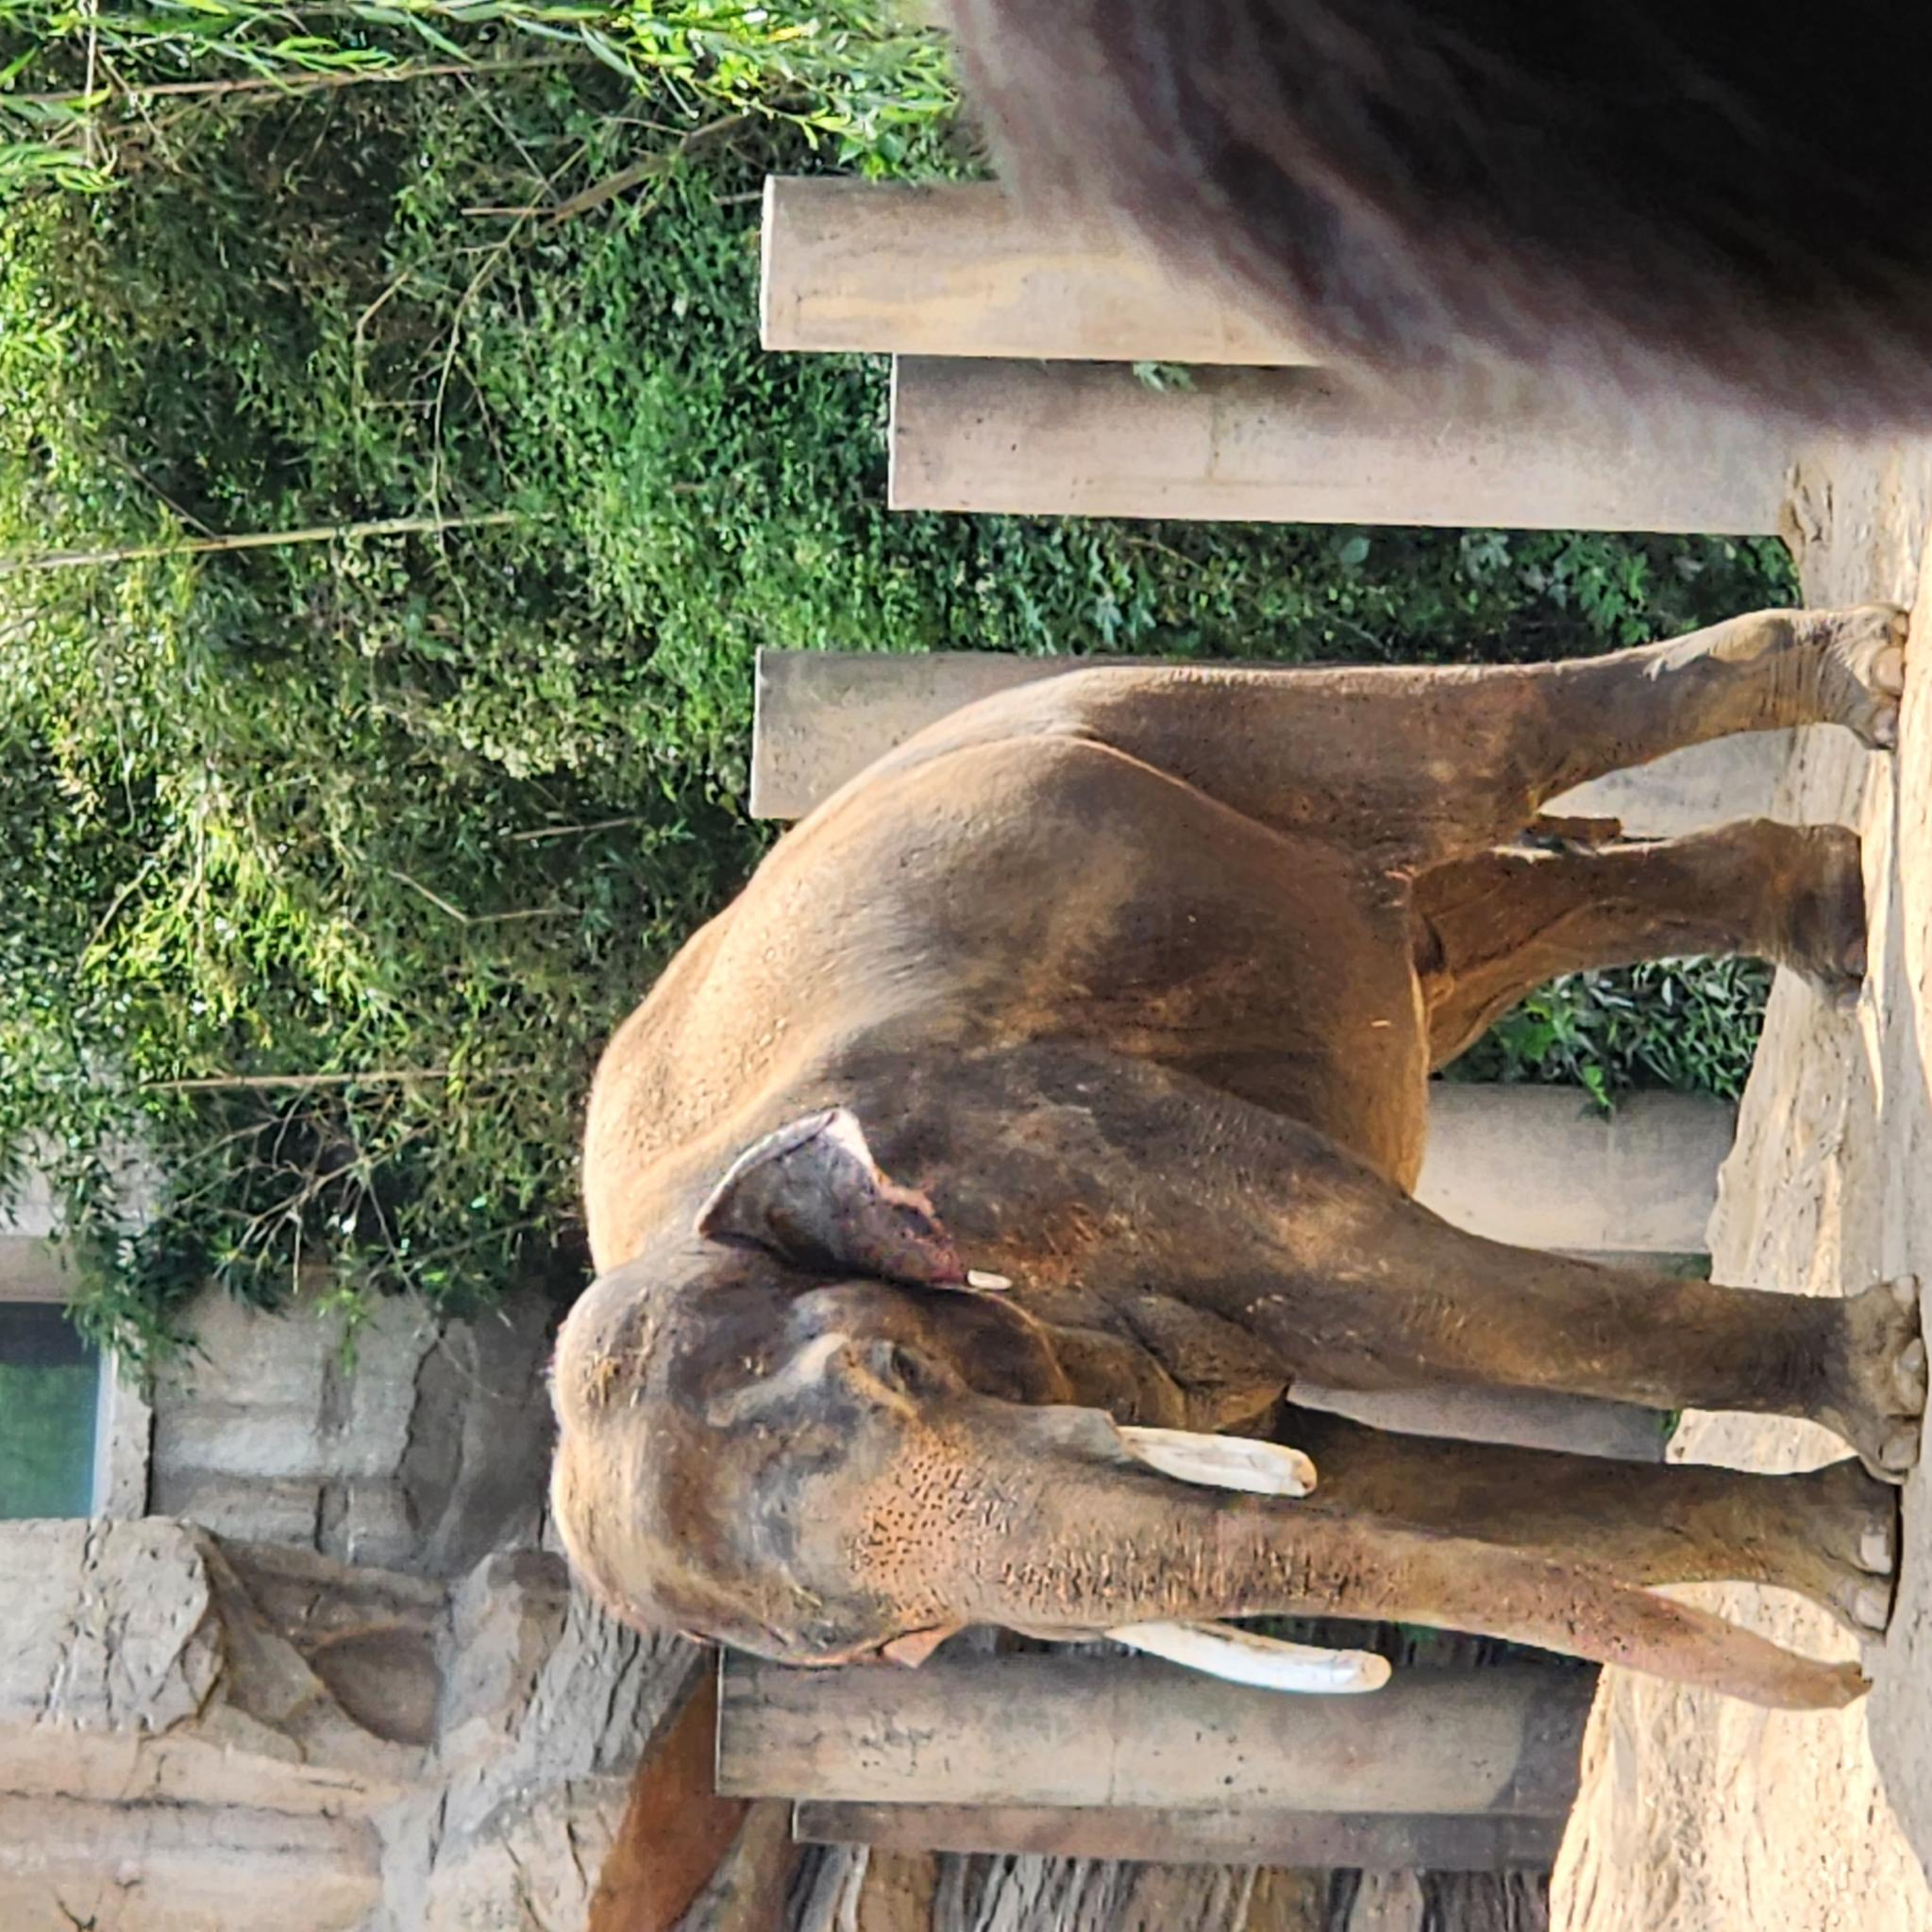elephant: (224, 545, 1332, 1926)
